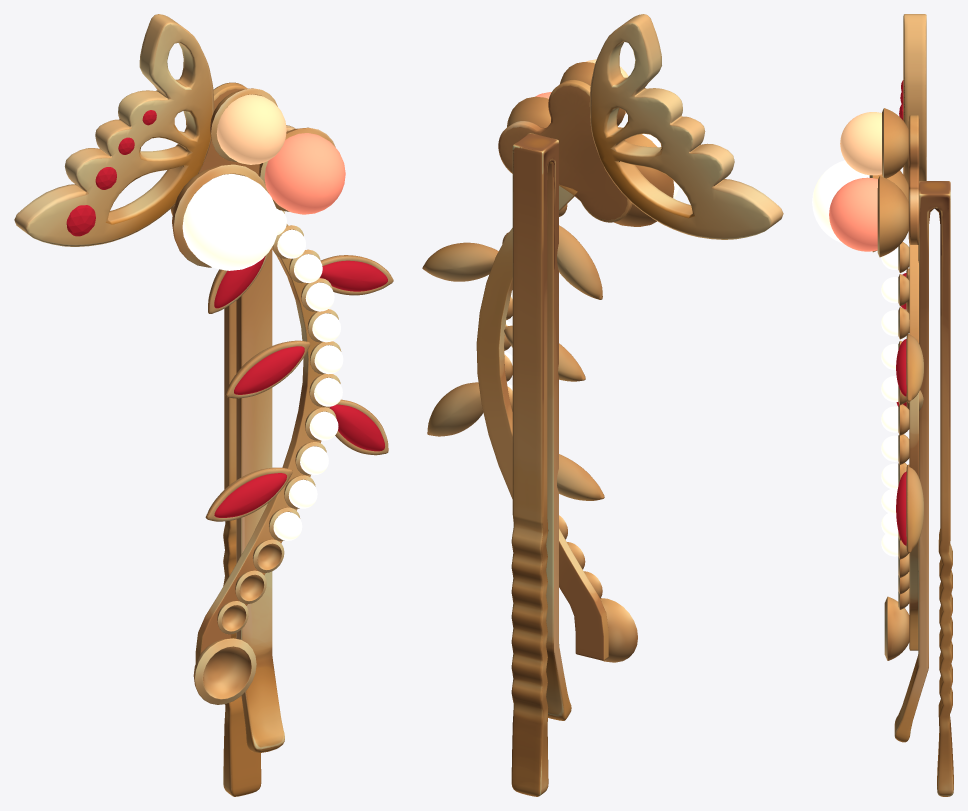
The picture shows the model from 3 angles, left to right: view 1: azimuth 30°, elevation 25°; view 2: azimuth 150°, elevation 25°; view 3: azimuth 270°, elevation 25°; orthographic projection. The views are drawn at different scales.
Visible parts, largest first — view 1: hairakuse; view 2: hairakuse; view 3: hairakuse.
Boxes of the visible parts, x1,y1,x2,y2 form: hairakuse: (14, 14, 393, 796); hairakuse: (422, 14, 783, 796); hairakuse: (812, 14, 953, 796).
Bounding box in the file's own units: 72.64 × 152 × 26.6.
